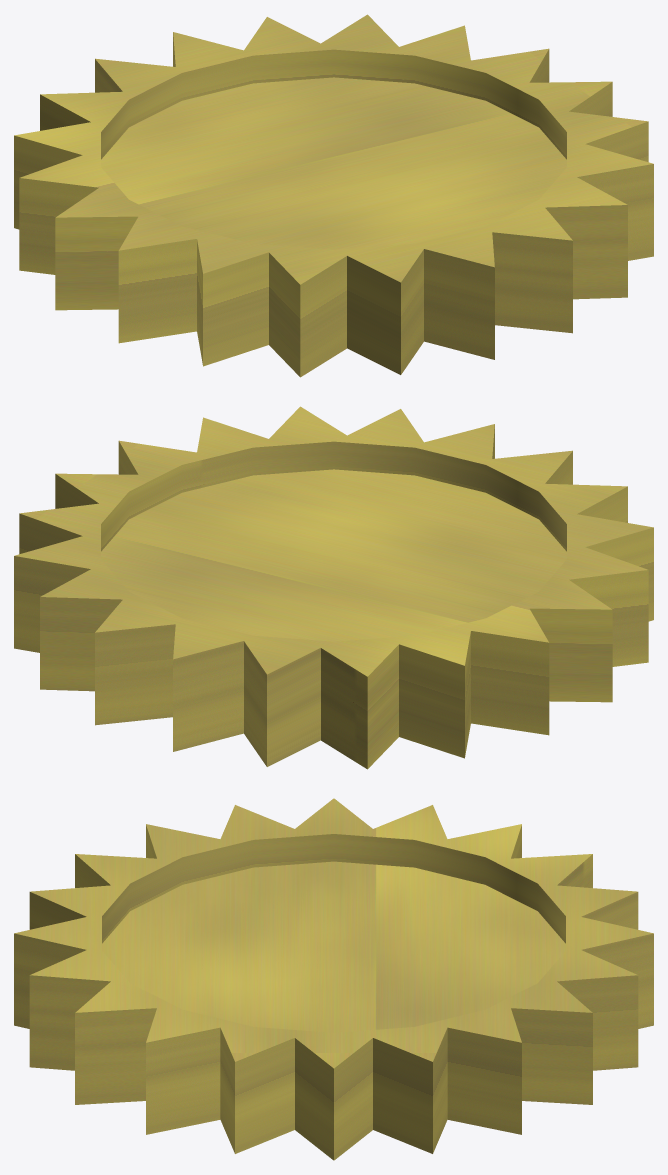
File: ClockStraightFacet4Spoke020.fbx
The picture shows the model from 3 angles, top to bottom: view 1: azimuth 30°, elevation 25°; view 2: azimuth 150°, elevation 25°; view 3: azimuth 270°, elevation 25°; orthographic projection.
Parts seen in each view (by area): view 1: ClockStraightFacet4Spoke020; view 2: ClockStraightFacet4Spoke020; view 3: ClockStraightFacet4Spoke020.
Part boxes in pixels (x1,y1,x2,y2): ClockStraightFacet4Spoke020: (14, 14, 653, 377); ClockStraightFacet4Spoke020: (14, 406, 653, 769); ClockStraightFacet4Spoke020: (14, 798, 653, 1160).
Size of the model in its own units: 124 by 19.69 by 124.
